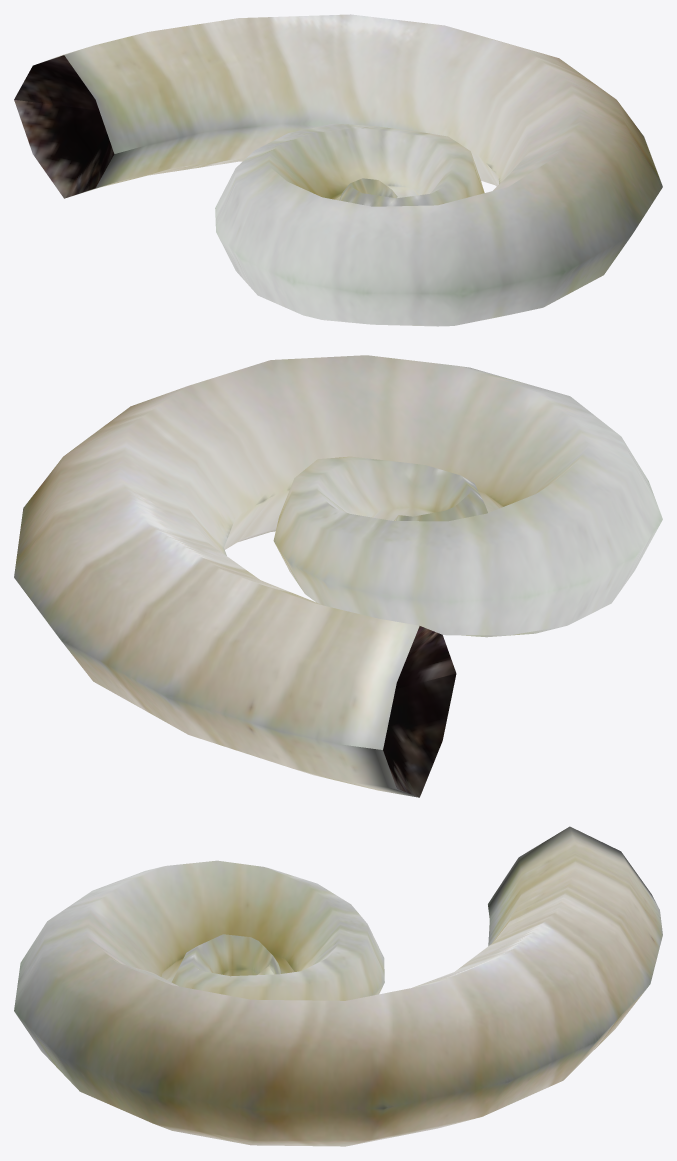
File: SeaShell-06_LOD0_FattooCreater.glb
3 views of the same model, one above another, from view 1: azimuth 30°, elevation 25°; view 2: azimuth 150°, elevation 25°; view 3: azimuth 270°, elevation 25° (orthographic). The views are drawn at different scales.
Parts seen in each view (by area): view 1: SeaShell-06_high; view 2: SeaShell-06_high; view 3: SeaShell-06_high.
Part boxes in pixels (box(x1,y1,x2,y2)): SeaShell-06_high: box(14, 14, 662, 326); SeaShell-06_high: box(14, 355, 662, 797); SeaShell-06_high: box(14, 826, 662, 1146).
Size of the model in its own units: 0.0188 by 0.00593 by 0.0239.
1 material, 1 textured.
